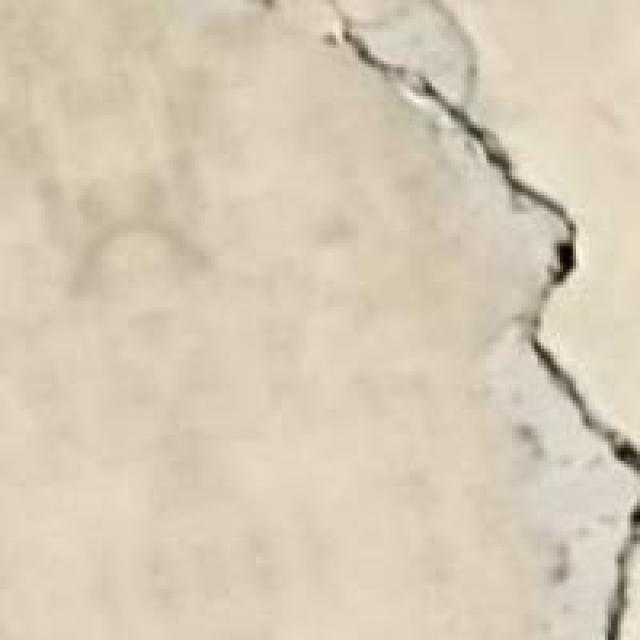crack: (346, 16, 636, 637)
